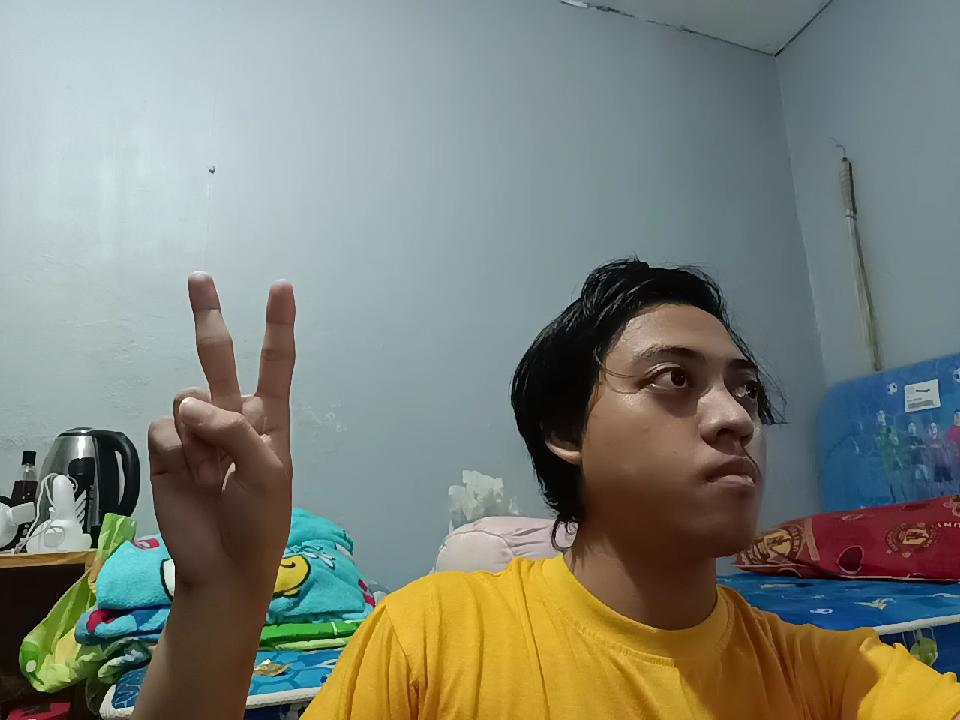scissors: (154, 253, 312, 558)
